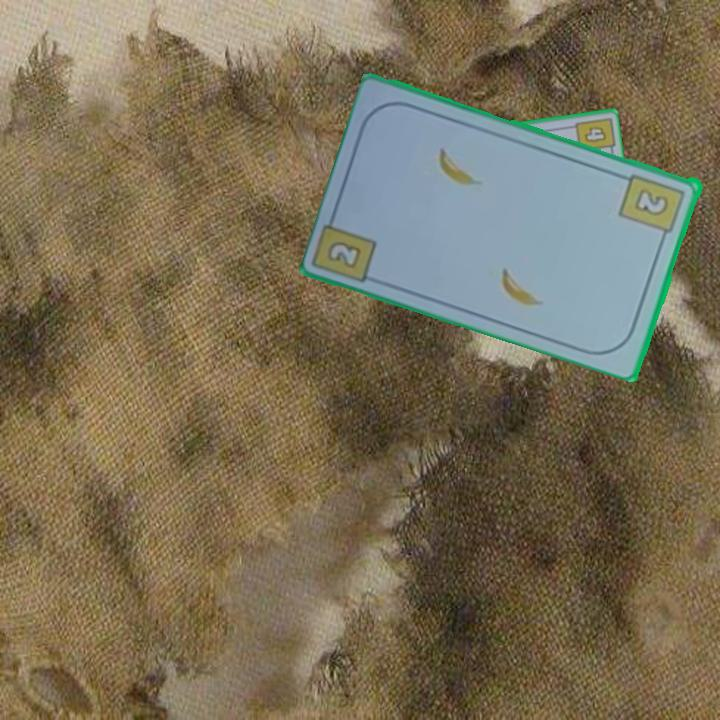2b: (616, 169, 688, 244), (323, 237, 365, 272)
4b: (581, 122, 610, 145)
